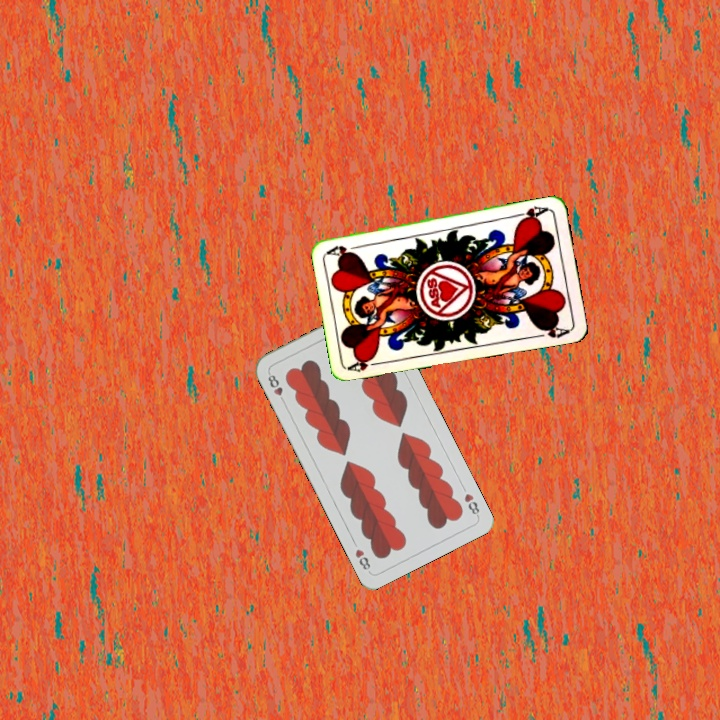H8: (264, 368, 288, 406), (460, 489, 482, 520)
HA: (510, 202, 551, 225), (345, 352, 386, 375)
